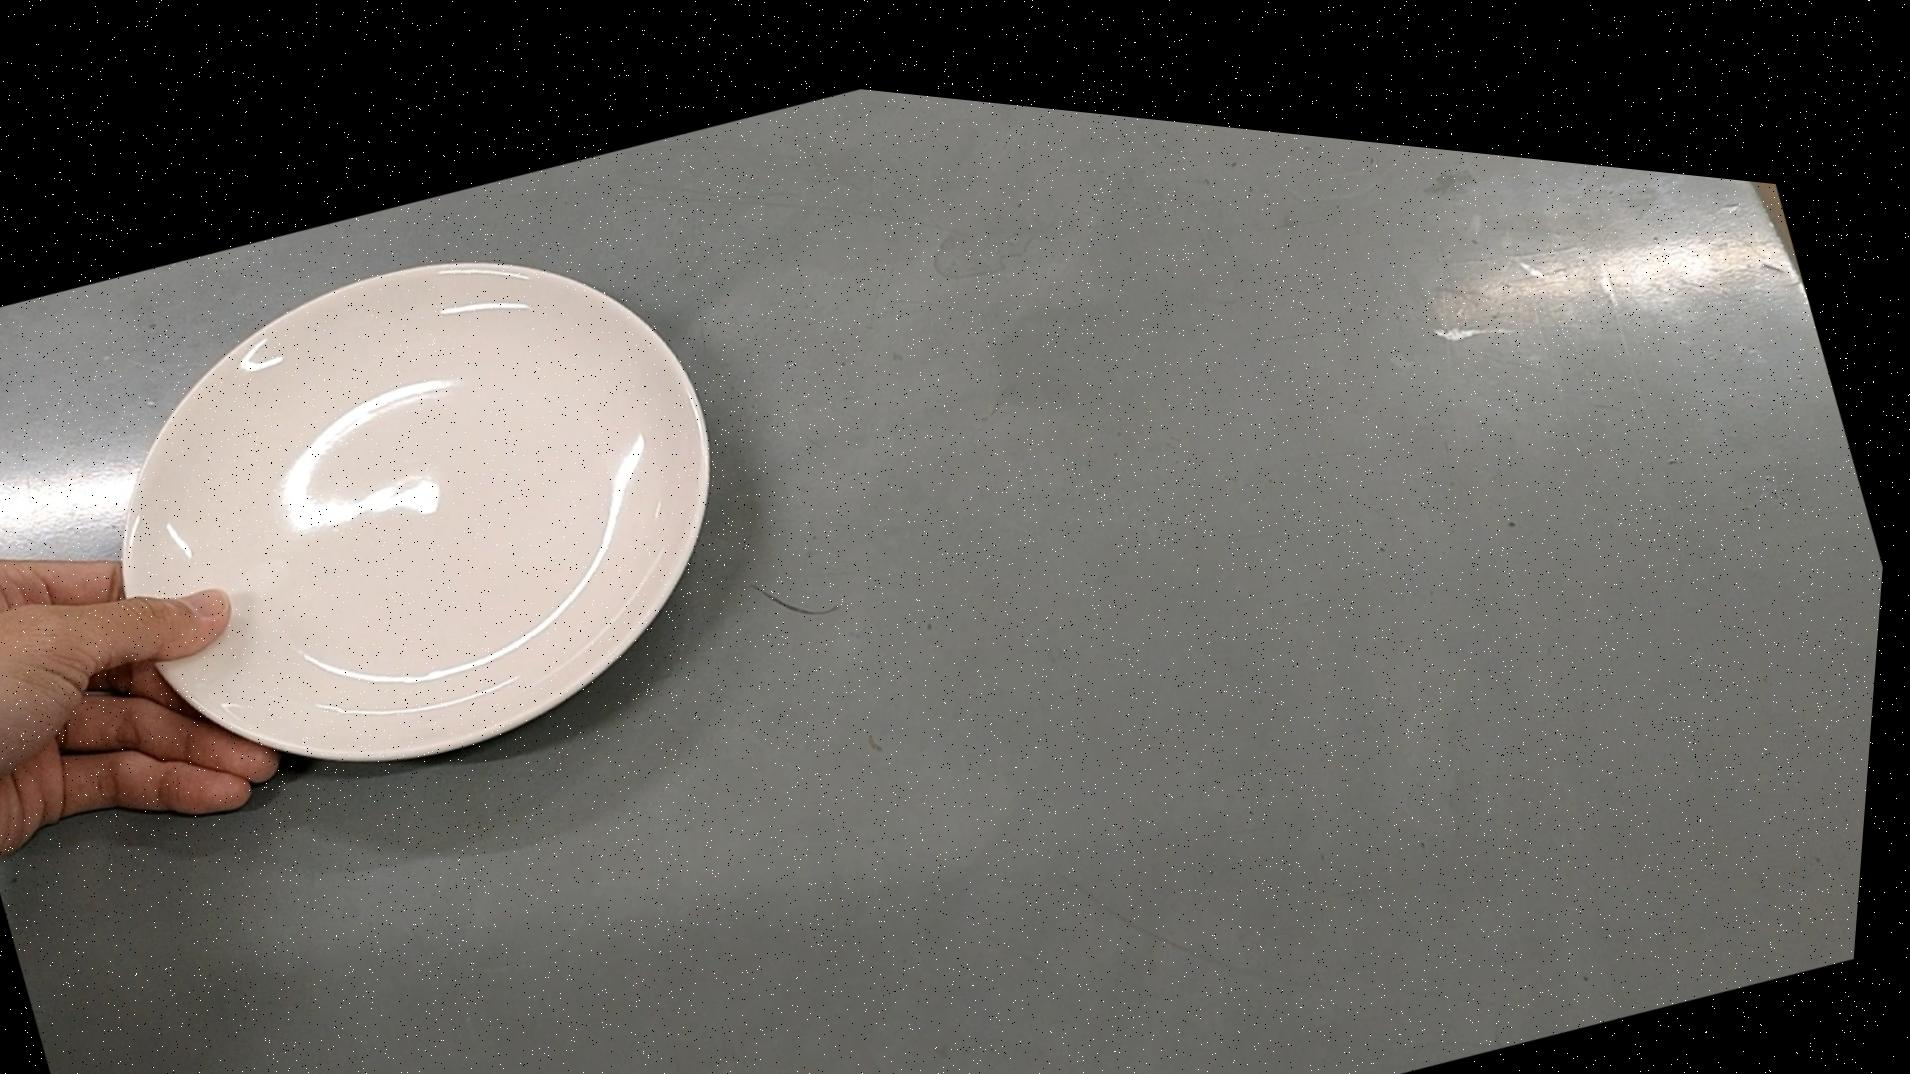plate: (38, 151, 800, 856)
